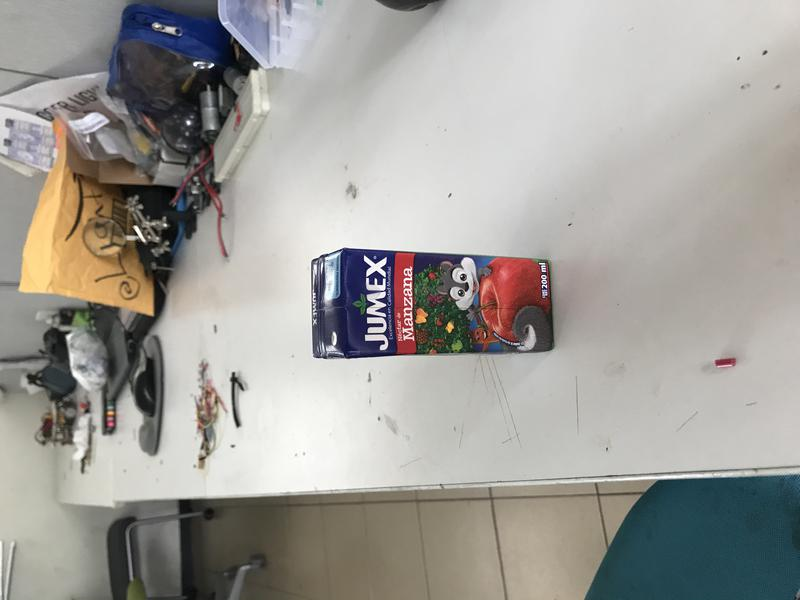jumex_cajita: (312, 249, 556, 358)
